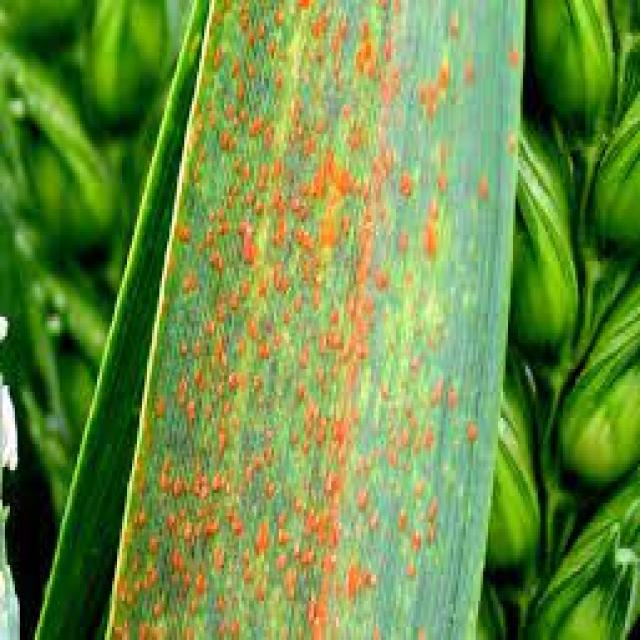leaf rust: (110, 3, 518, 640)
